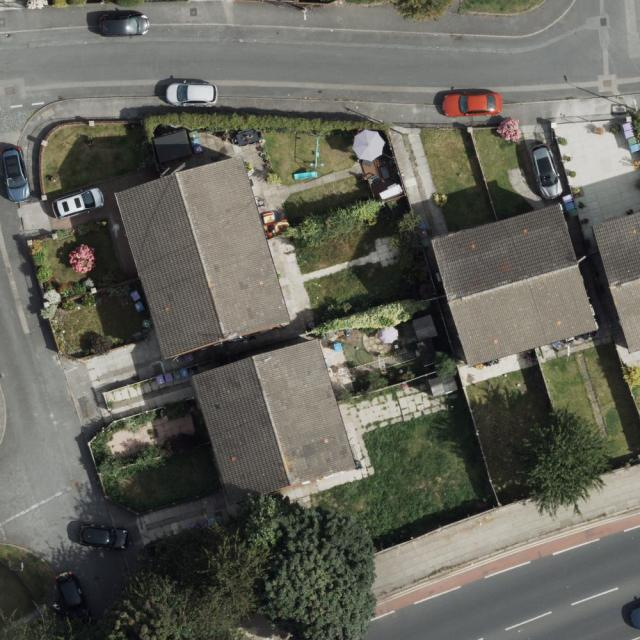roof: (113, 154, 292, 359), (192, 339, 356, 513), (431, 203, 598, 367), (592, 210, 640, 355)
